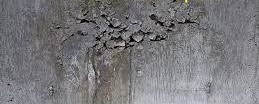Spalling: (60, 1, 199, 50)
